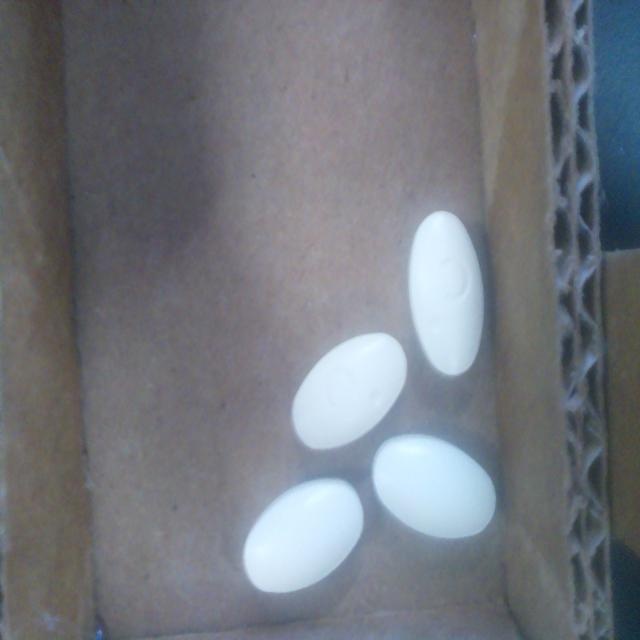pill: (243, 478, 364, 594), (292, 333, 407, 450), (372, 434, 497, 539), (408, 211, 483, 377)
